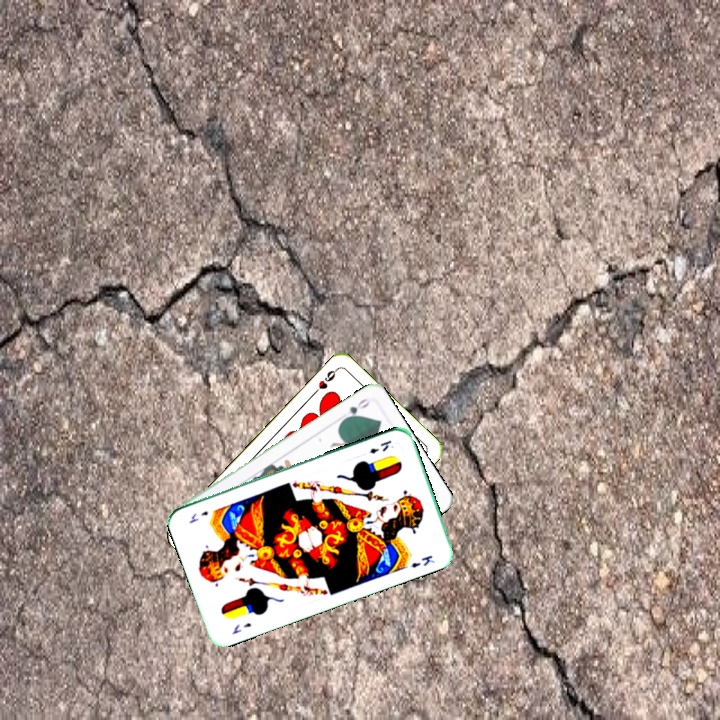EK: (366, 436, 394, 456), (228, 618, 254, 637)
GO: (338, 394, 372, 424)
H9: (309, 365, 340, 398)
